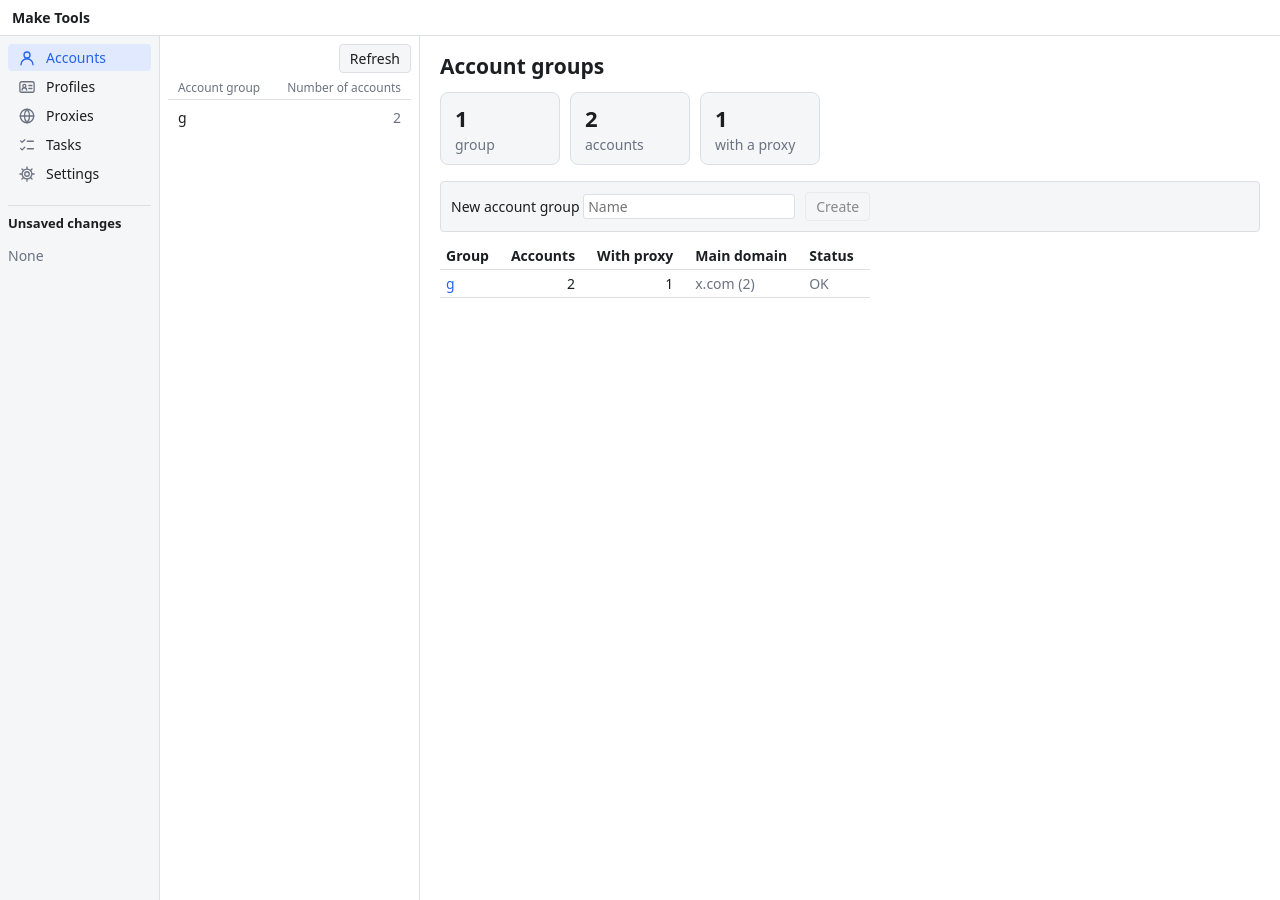
Test: account group page › leaves out the proxy login columns when no account has one
Expected: the heading "Account groups" is shown, [440,52,604,80]
Step 1. Click the button "g" → click(450, 284), box [446,274,455,293]
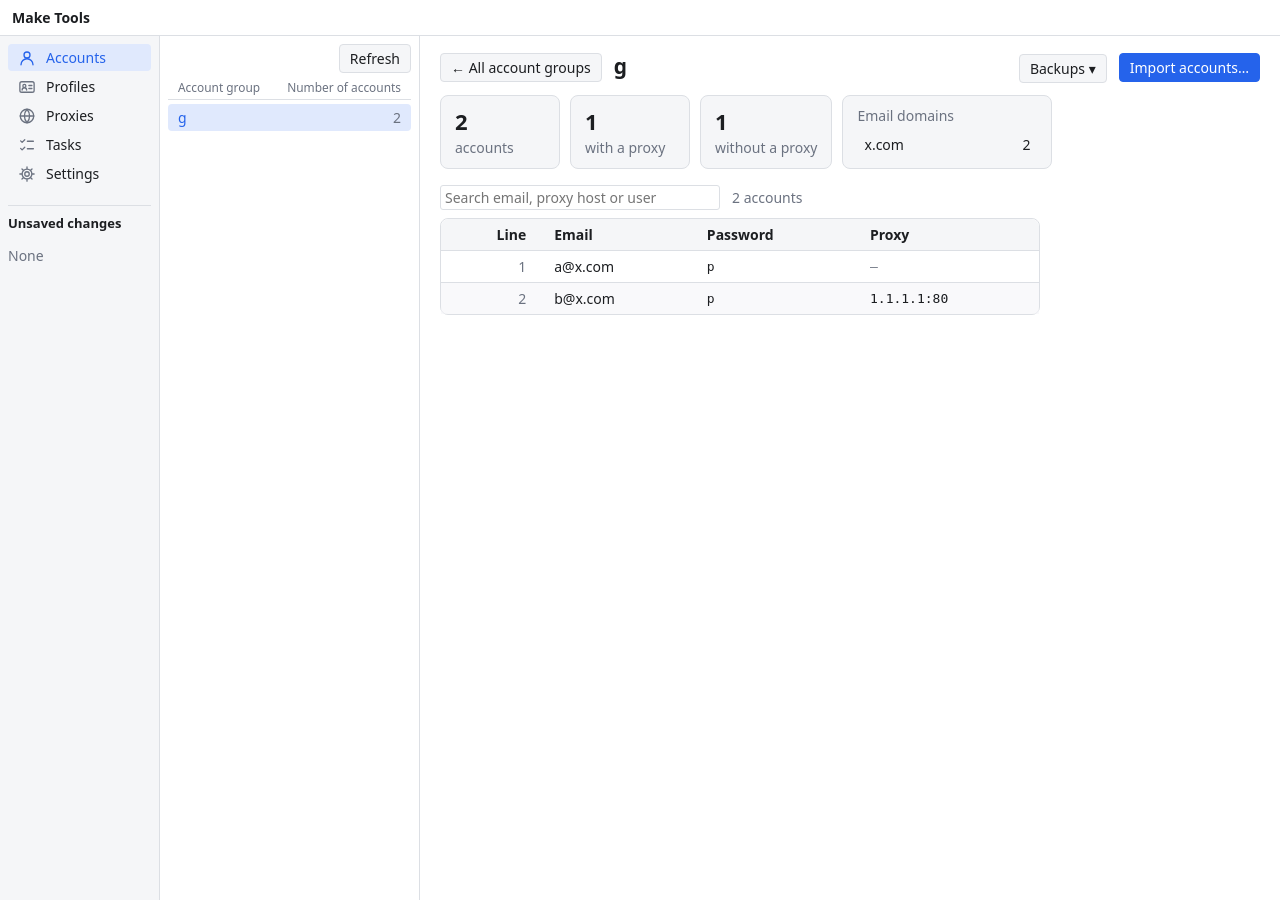
Expected: the heading "g" is shown, [614,52,627,80]
Expected: the column headings read "Line", "Email", "Password", "Proxy", in this order, [441,219,540,251]; [540,219,693,251]; [693,219,856,251]; [856,219,1039,251]
